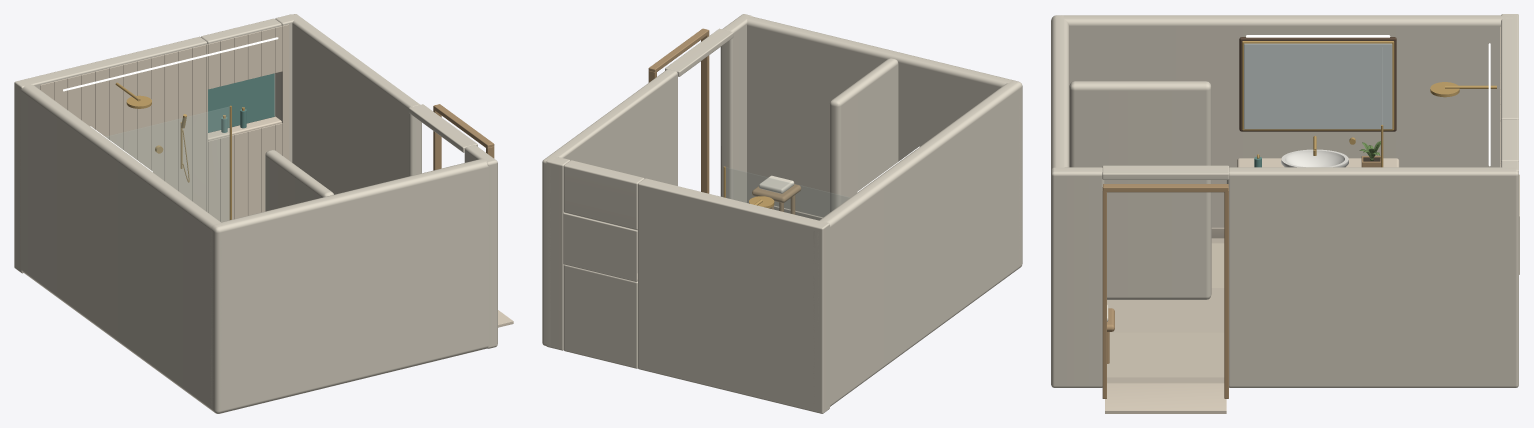
Rendered from room-bath-living.glb.
The picture shows the model from 3 angles, left to right: view 1: azimuth 30°, elevation 25°; view 2: azimuth 150°, elevation 25°; view 3: azimuth 270°, elevation 25°; orthographic projection. The views are drawn at different scales.
Visible parts, largest first — view 1: bath-living__chalk limestone, bath-living__honed travertine, bath-living__bathroom clear shower glass, bath-living__bathroom celadon ceramic, bath-living__brushed brass, bath-living__pale oak, bath-living__bathroom warm diffuser; view 2: bath-living__chalk limestone, bath-living__bathroom clear shower glass, bath-living__pale oak, bath-living__linen; view 3: bath-living__chalk limestone, bath-living__bathroom satin mirror, bath-living__bathroom honed travertine sand, bath-living__honed travertine, bath-living__bathroom honed travertine oat, bath-living__pale oak, bath-living__brushed brass, bath-living__honey ash, bath-living__bathroom porcelain glaze, bath-living__warm cut stone, bath-living__bathroom warm diffuser, bath-living__bathroom honed travertine ivory.
Part boxes in pixels (x1=…): bath-living__chalk limestone: x1=14, y1=14, x2=497, y2=413; bath-living__honed travertine: x1=40, y1=24, x2=513, y2=327; bath-living__bathroom clear shower glass: x1=106, y1=107, x2=229, y2=221; bath-living__bathroom celadon ceramic: x1=208, y1=73, x2=274, y2=132; bath-living__brushed brass: x1=115, y1=82, x2=244, y2=219; bath-living__pale oak: x1=433, y1=104, x2=494, y2=170; bath-living__bathroom warm diffuser: x1=63, y1=37, x2=278, y2=172; bath-living__chalk limestone: x1=542, y1=14, x2=1022, y2=413; bath-living__bathroom clear shower glass: x1=726, y1=167, x2=849, y2=219; bath-living__pale oak: x1=648, y1=28, x2=801, y2=214; bath-living__linen: x1=759, y1=175, x2=794, y2=193; bath-living__chalk limestone: x1=1051, y1=14, x2=1519, y2=387; bath-living__bathroom satin mirror: x1=1244, y1=43, x2=1392, y2=129; bath-living__bathroom honed travertine sand: x1=1107, y1=332, x2=1224, y2=377; bath-living__honed travertine: x1=1105, y1=26, x2=1500, y2=413; bath-living__bathroom honed travertine oat: x1=1107, y1=288, x2=1224, y2=332; bath-living__pale oak: x1=1102, y1=184, x2=1228, y2=398; bath-living__brushed brass: x1=1242, y1=41, x2=1496, y2=167; bath-living__honey ash: x1=1239, y1=37, x2=1396, y2=131; bath-living__bathroom porcelain glaze: x1=1281, y1=149, x2=1348, y2=167; bath-living__warm cut stone: x1=1107, y1=227, x2=1224, y2=383; bath-living__bathroom warm diffuser: x1=1246, y1=35, x2=1490, y2=166; bath-living__bathroom honed travertine ivory: x1=1211, y1=243, x2=1224, y2=287.
Bounding box in the file's own units: 4.22 × 2.39 × 4.62.
